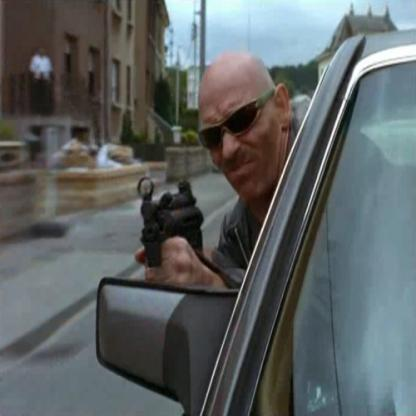Guns: (134, 166, 207, 296)
